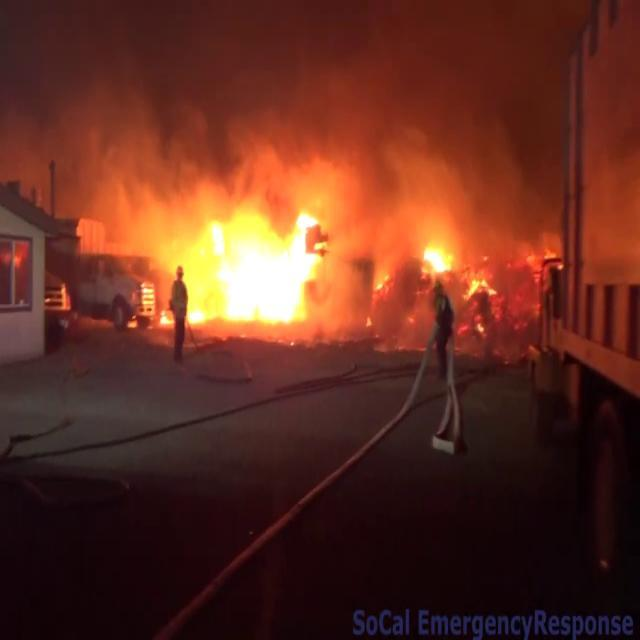Fire: (150, 187, 338, 337), (412, 227, 464, 284)
Smoke: (31, 0, 566, 246)
